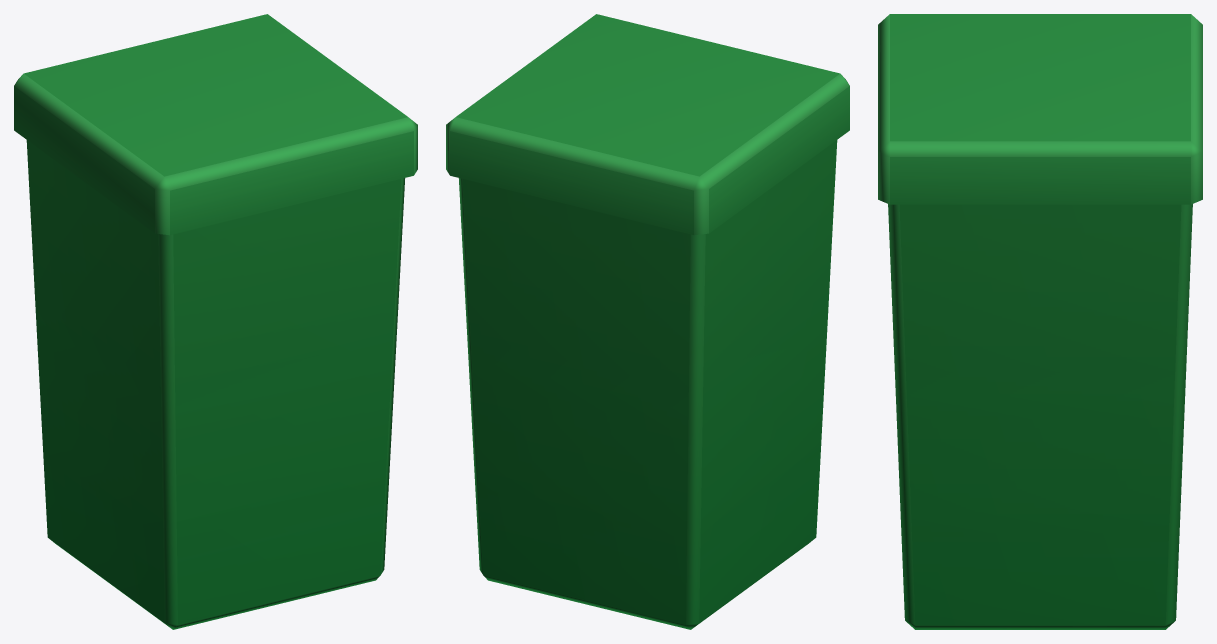
File: giftbox_021.fbx
The picture shows the model from 3 angles, left to right: view 1: azimuth 30°, elevation 25°; view 2: azimuth 150°, elevation 25°; view 3: azimuth 270°, elevation 25°; orthographic projection. The views are drawn at different scales.
Parts seen in each view (by area): view 1: giftbox_021; view 2: giftbox_021; view 3: giftbox_021.
Boxes of the visible parts, x1=… form: giftbox_021: x1=14, y1=14, x2=417, y2=629; giftbox_021: x1=446, y1=14, x2=849, y2=629; giftbox_021: x1=878, y1=14, x2=1202, y2=629.
Bounding box in the file's own units: 234 × 234 × 397.
